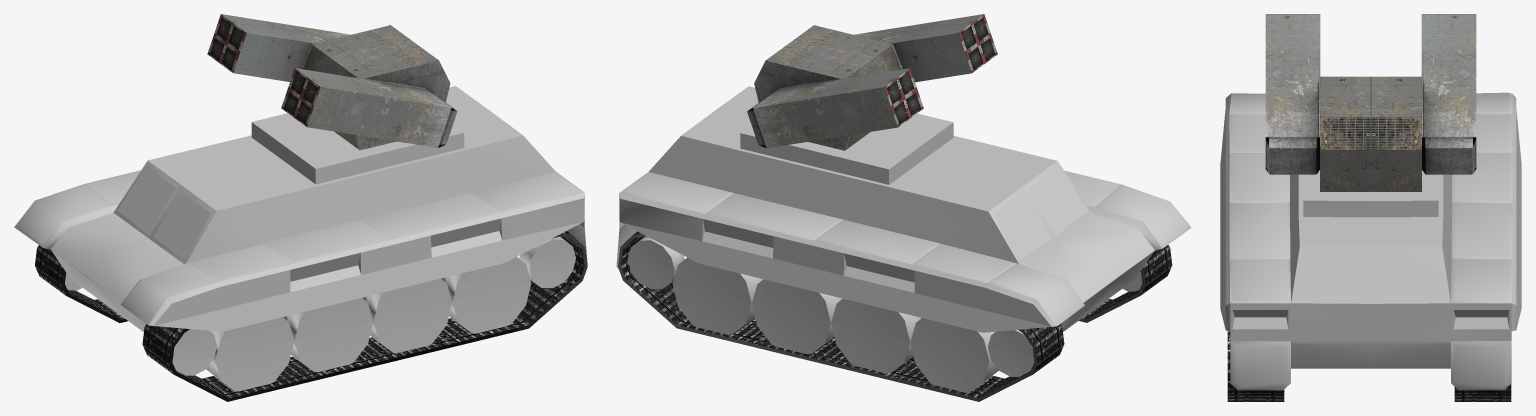
The model's file is Tank5_lod1.FBX.
The picture shows the model from 3 angles, left to right: view 1: azimuth 30°, elevation 25°; view 2: azimuth 150°, elevation 25°; view 3: azimuth 270°, elevation 25°; orthographic projection. The views are drawn at different scales.
Parts seen in each view (by area): view 1: tank15, Object46, tank5_gun05, tank5_gun03, tank5_gun04, wheel248, wheel254, wheel253, wheel252, wheel244, wheel250; view 2: tank15, tank5_gun04, Object46, tank5_gun03, tank5_gun05, wheel241, wheel246, wheel247, wheel245, wheel249, wheel242; view 3: tank15, tank5_gun03, tank5_gun04, tank5_gun05, Object46.
Boxes of the visible parts, left/top/right/bottom form: tank15: left=14, top=86, right=587, bottom=331; Object46: left=35, top=231, right=587, bottom=401; tank5_gun05: left=281, top=68, right=457, bottom=147; tank5_gun03: left=302, top=25, right=450, bottom=150; tank5_gun04: left=207, top=14, right=350, bottom=81; wheel248: left=441, top=257, right=531, bottom=333; wheel254: left=362, top=278, right=452, bottom=352; wheel253: left=283, top=298, right=372, bottom=372; wheel252: left=206, top=317, right=294, bottom=391; wheel244: left=519, top=236, right=575, bottom=288; wheel250: left=172, top=329, right=216, bottom=375; tank15: left=616, top=86, right=1191, bottom=332; tank5_gun04: left=747, top=68, right=923, bottom=148; Object46: left=618, top=231, right=1172, bottom=401; tank5_gun03: left=754, top=25, right=902, bottom=150; tank5_gun05: left=854, top=14, right=997, bottom=82; wheel241: left=672, top=257, right=763, bottom=334; wheel246: left=831, top=298, right=921, bottom=373; wheel247: left=752, top=279, right=842, bottom=354; wheel245: left=910, top=318, right=998, bottom=392; wheel249: left=628, top=236, right=684, bottom=289; wheel242: left=988, top=329, right=1034, bottom=376; tank15: left=1220, top=92, right=1521, bottom=390; tank5_gun03: left=1320, top=76, right=1421, bottom=191; tank5_gun04: left=1421, top=14, right=1476, bottom=174; tank5_gun05: left=1265, top=14, right=1320, bottom=174; Object46: left=1227, top=331, right=1511, bottom=401.
Bounding box in the file's own units: 5.84 × 3.48 × 3.27.
